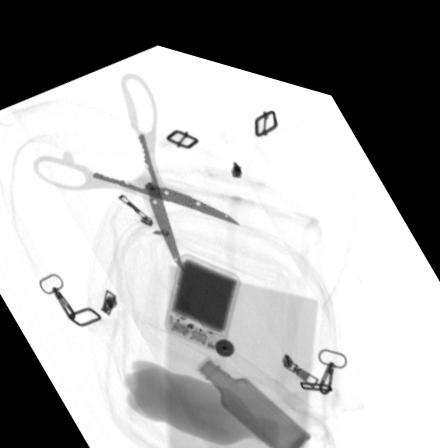Powerbank: (163, 241, 240, 340)
Scissors: (31, 62, 238, 266)
